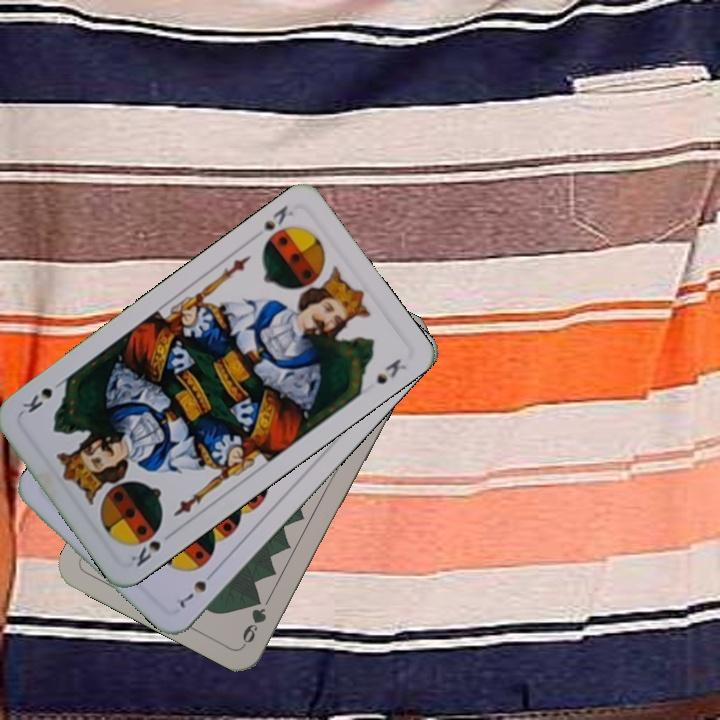G9: (238, 603, 269, 648)
S7: (175, 566, 219, 611)
SK: (126, 536, 164, 570), (258, 201, 296, 234)
